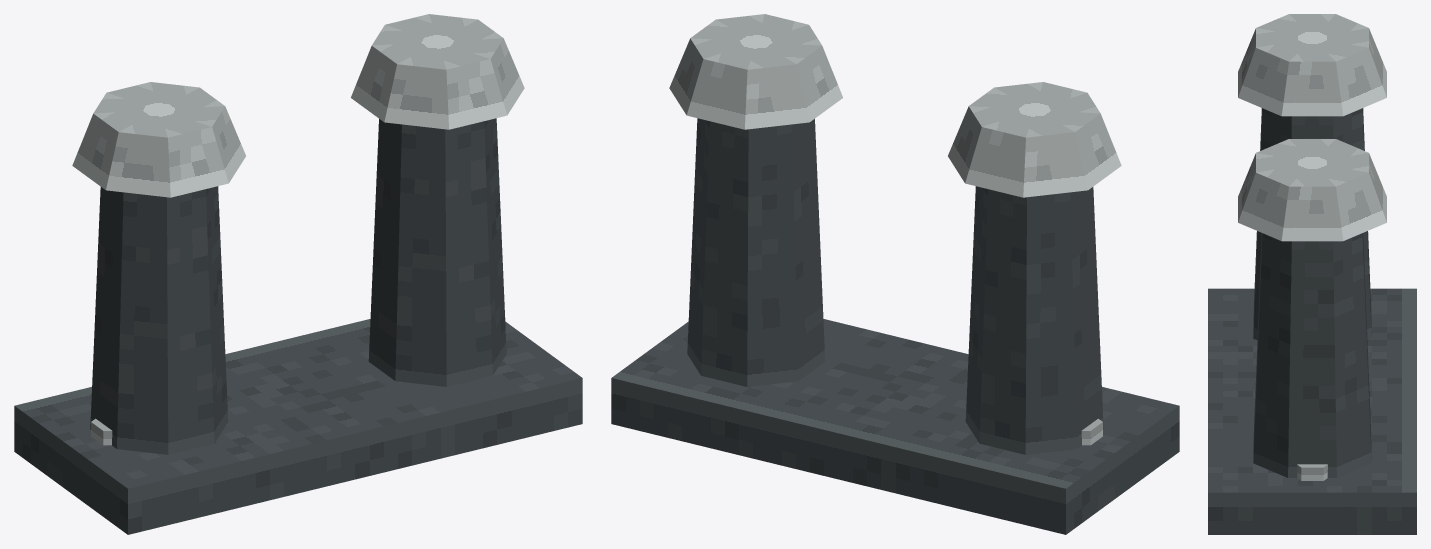
File: f_bitts.glb
3 views of the same model, side by side, from view 1: azimuth 30°, elevation 25°; view 2: azimuth 150°, elevation 25°; view 3: azimuth 270°, elevation 25° (orthographic). The views are drawn at different scales.
Parts seen in each view (by area): view 1: block_mooring-post (×2), block_bolted-mooring-base, block_mooring-post-cap (×2); view 2: block_mooring-post (×2), block_bolted-mooring-base, block_mooring-post-cap (×2); view 3: block_bolted-mooring-base, block_mooring-post (×2), block_mooring-post-cap (×2), block_anchor-bolt.
Boxes of the visible parts, box(x1,y1,x2,y2) form: block_mooring-post (×2): box(90, 118, 506, 454); block_bolted-mooring-base: box(14, 319, 582, 534); block_mooring-post-cap (×2): box(72, 14, 524, 197); block_mooring-post (×2): box(687, 118, 1103, 454); block_bolted-mooring-base: box(611, 319, 1179, 534); block_mooring-post-cap (×2): box(669, 14, 1121, 197); block_bolted-mooring-base: box(1208, 288, 1416, 534); block_mooring-post (×2): box(1253, 108, 1371, 477); block_mooring-post-cap (×2): box(1238, 14, 1386, 241); block_anchor-bolt: box(1297, 464, 1327, 480).
Size of the model in its own units: 0.67 by 0.51 by 0.29.
Materials: 1 (1 with a texture image).
